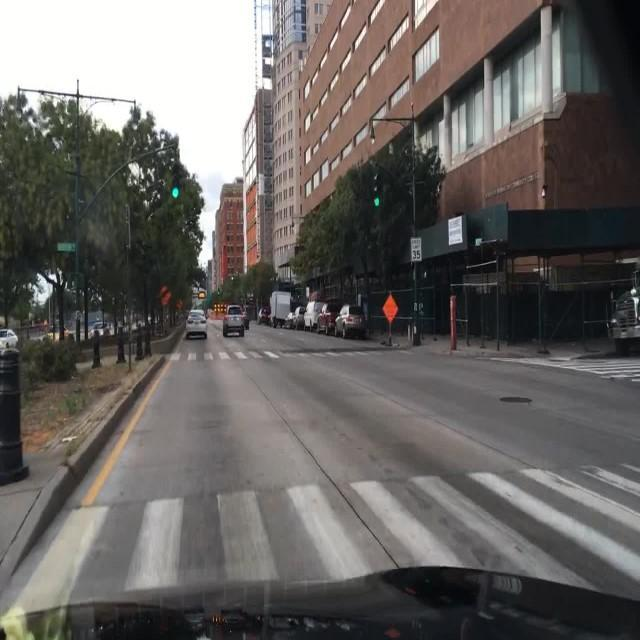normal: (213, 297, 255, 346), (176, 308, 212, 342)
